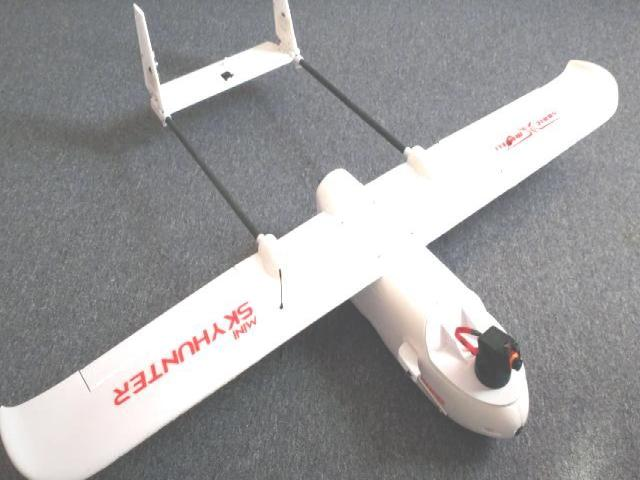iha: (1, 8, 619, 477)
